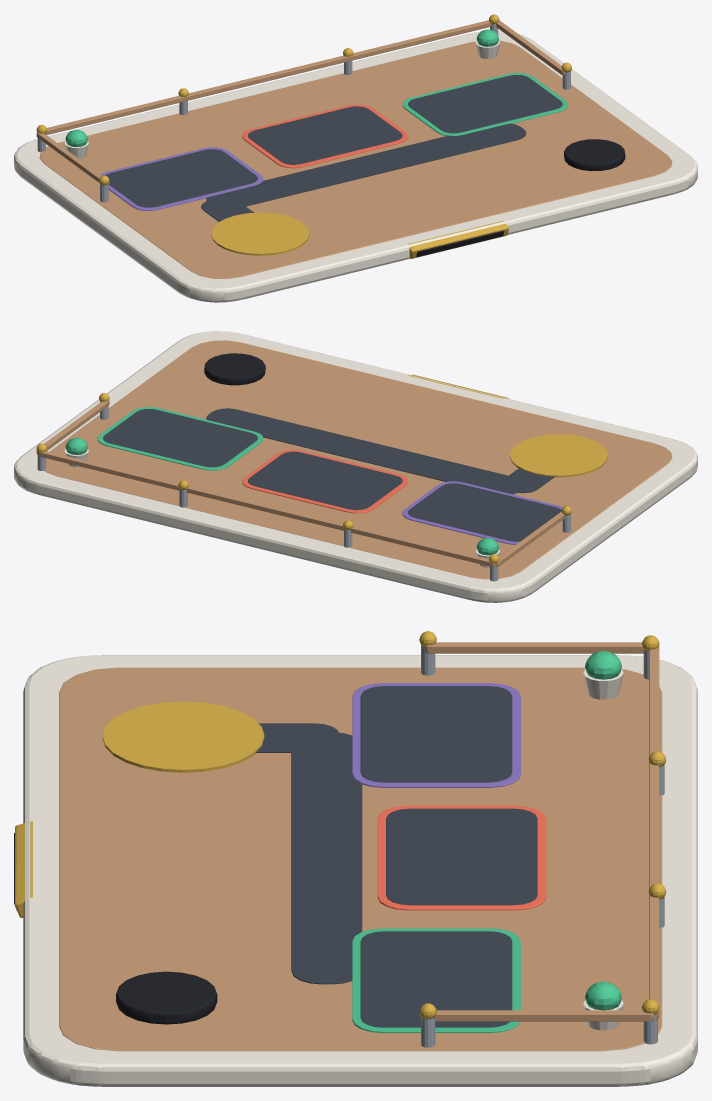
Rendered from FloorOfficePlatform_Compact.fbx.
3 views of the same model, one above another, from view 1: azimuth 30°, elevation 25°; view 2: azimuth 150°, elevation 25°; view 3: azimuth 270°, elevation 25° (orthographic). The views are drawn at different scales.
Parts seen in each view (by area): view 1: FloorOfficePlatform_Compact_StaticBody; view 2: FloorOfficePlatform_Compact_StaticBody; view 3: FloorOfficePlatform_Compact_StaticBody.
Boxes of the visible parts, x1=… form: FloorOfficePlatform_Compact_StaticBody: x1=14, y1=14, x2=697, y2=302; FloorOfficePlatform_Compact_StaticBody: x1=14, y1=331, x2=697, y2=602; FloorOfficePlatform_Compact_StaticBody: x1=14, y1=631, x2=697, y2=1086.
Bounding box in the file's own units: 58 × 4.72 × 40.55.
